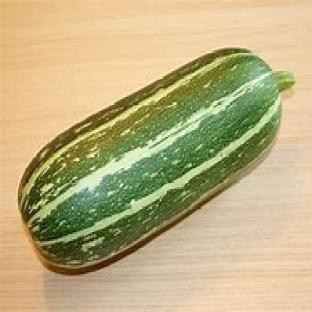Zucchini: (20, 49, 294, 268)
